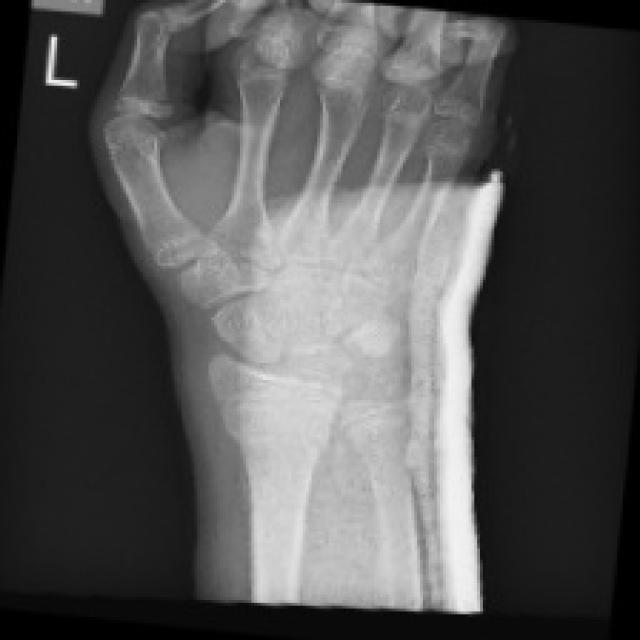fracture: (102, 68, 190, 162)
